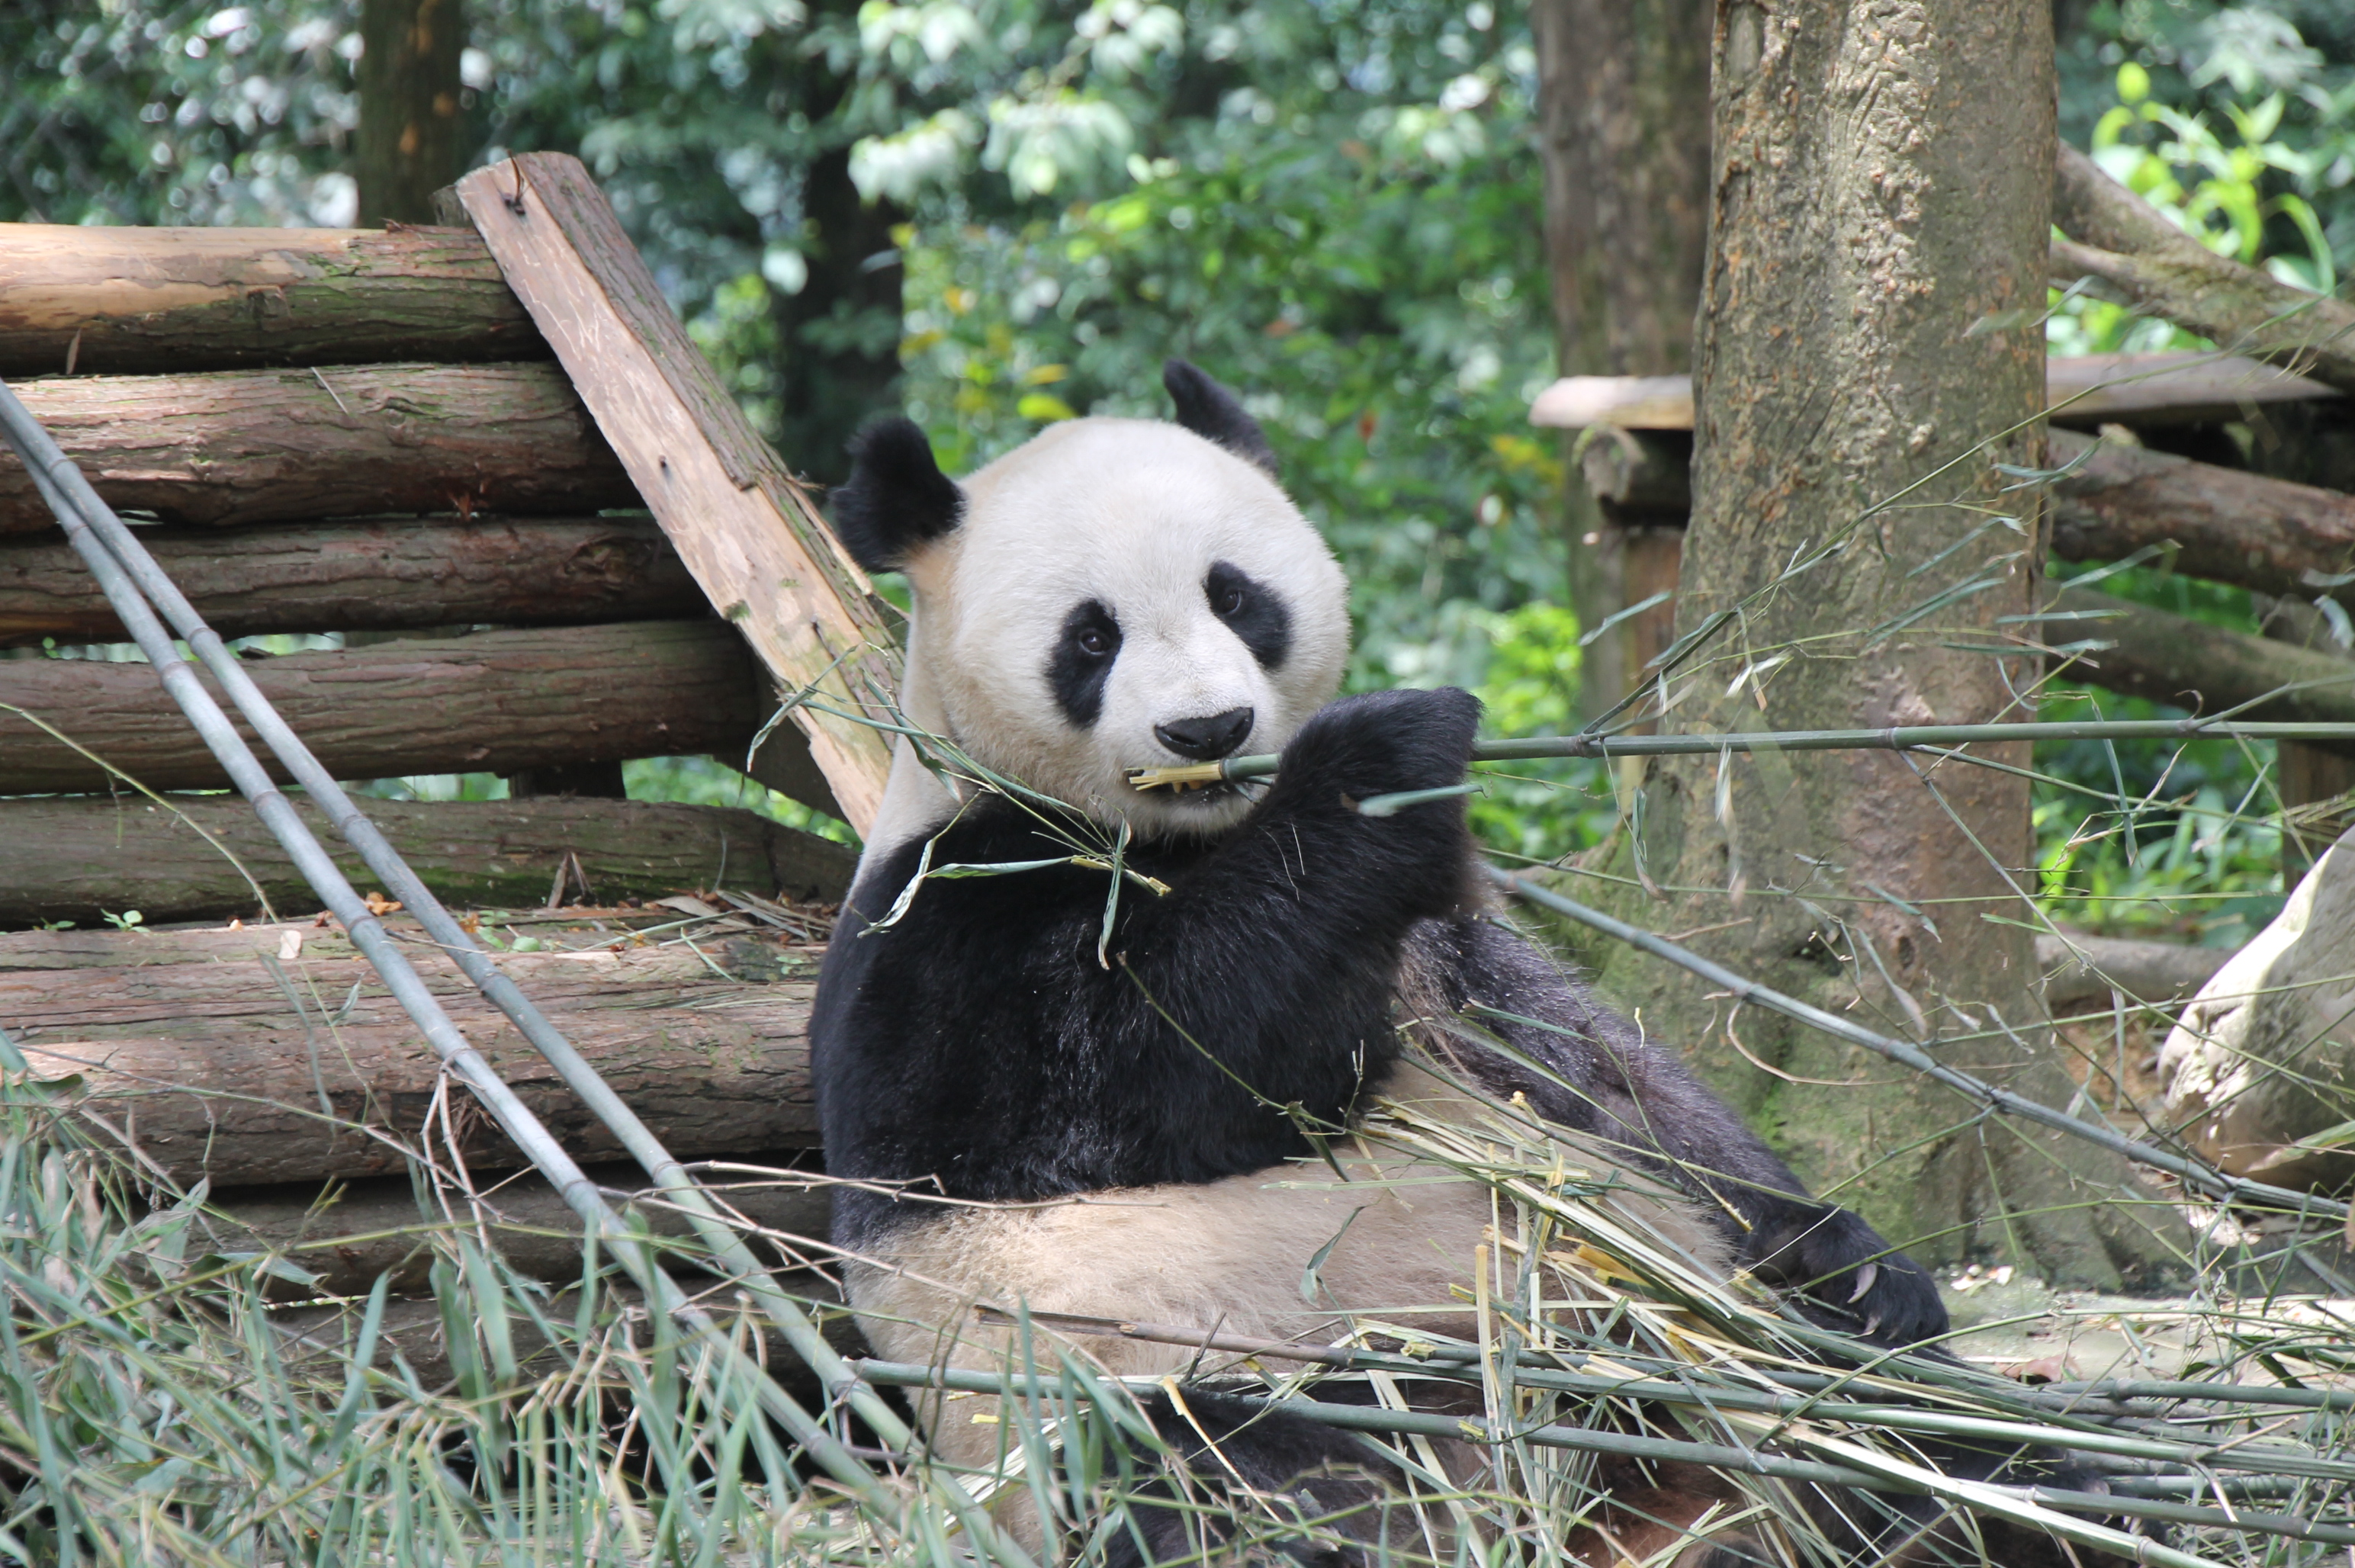panda: (773, 359, 1876, 1468)
